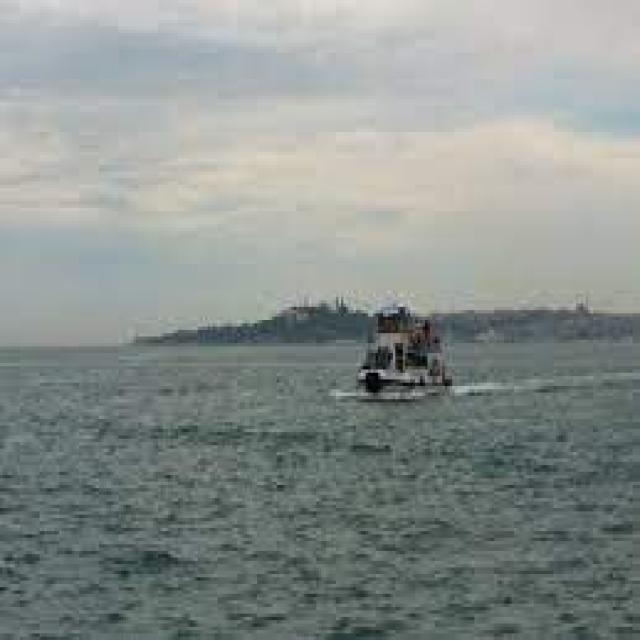fishing boat: (342, 307, 462, 386)
